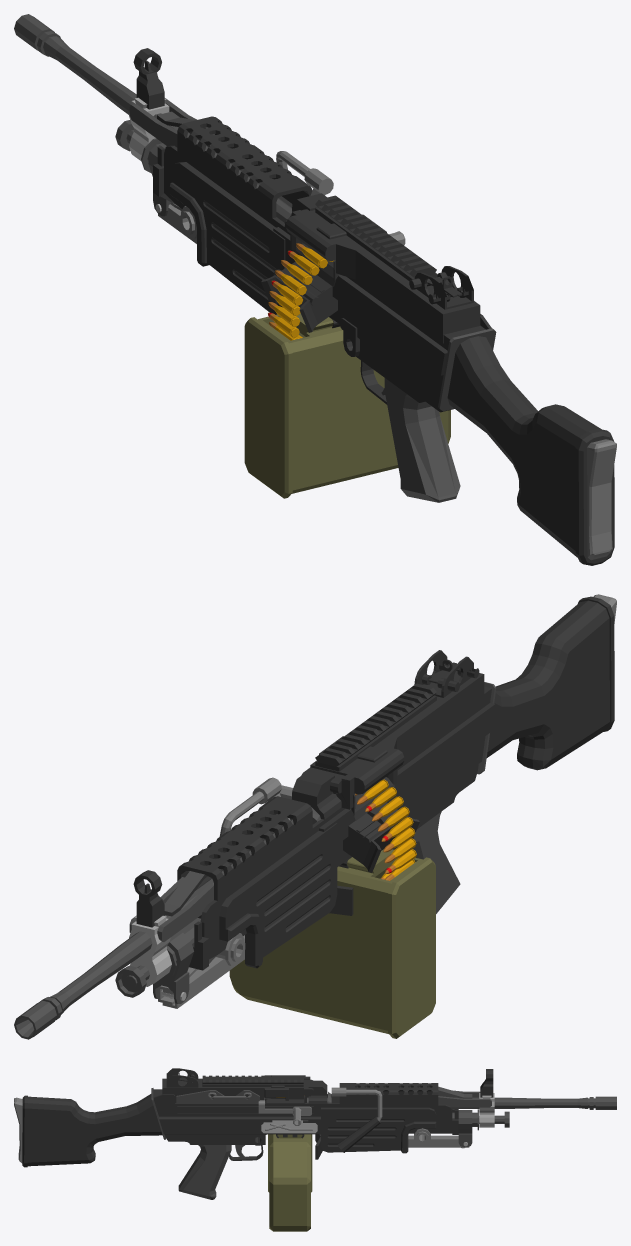
The picture shows the model from 3 angles, top to bottom: view 1: azimuth 30°, elevation 25°; view 2: azimuth 150°, elevation 25°; view 3: azimuth 270°, elevation 25°; orthographic projection. The views are drawn at different scales.
Visible parts, largest first — view 1: M249, M249_Magazine, M249_Slide, M249_Ammo; view 2: M249, M249_Magazine, M249_Slide, M249_Ammo; view 3: M249, M249_Magazine, M249_Slide, M249_Bolt.
Boxes of the visible parts, x1,y1,x2,y2 form: M249: [14, 14, 616, 565]; M249_Magazine: [244, 313, 450, 498]; M249_Slide: [286, 195, 480, 343]; M249_Ammo: [268, 243, 334, 340]; M249: [14, 594, 616, 1039]; M249_Magazine: [229, 849, 435, 1038]; M249_Slide: [301, 650, 484, 809]; M249_Ammo: [355, 779, 416, 880]; M249: [14, 1069, 616, 1199]; M249_Magazine: [268, 1134, 312, 1231]; M249_Slide: [162, 1068, 313, 1103]; M249_Bolt: [258, 1098, 311, 1125].
Bounding box in the file's own units: 0.1755 × 0.2725 × 1.04.
1 material, 1 textured.
